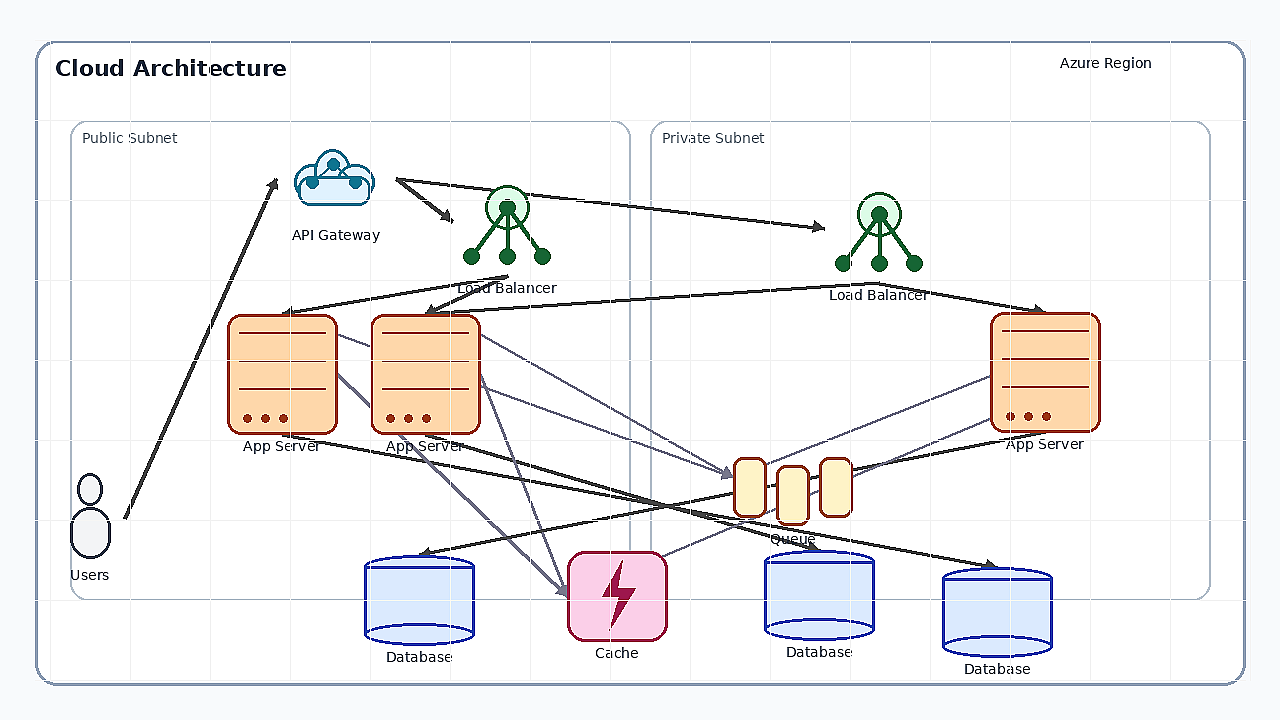API Gateway: (276, 133, 396, 223)
Application Server: (370, 314, 480, 434), (227, 314, 337, 434), (990, 312, 1100, 432)
Cache: (567, 551, 667, 641)
Database: (364, 555, 474, 645), (764, 550, 874, 640), (942, 567, 1052, 657)
Load Balancer: (452, 166, 562, 276), (824, 173, 934, 283)
Message Queue: (733, 457, 853, 527)
User: (55, 473, 125, 563)
